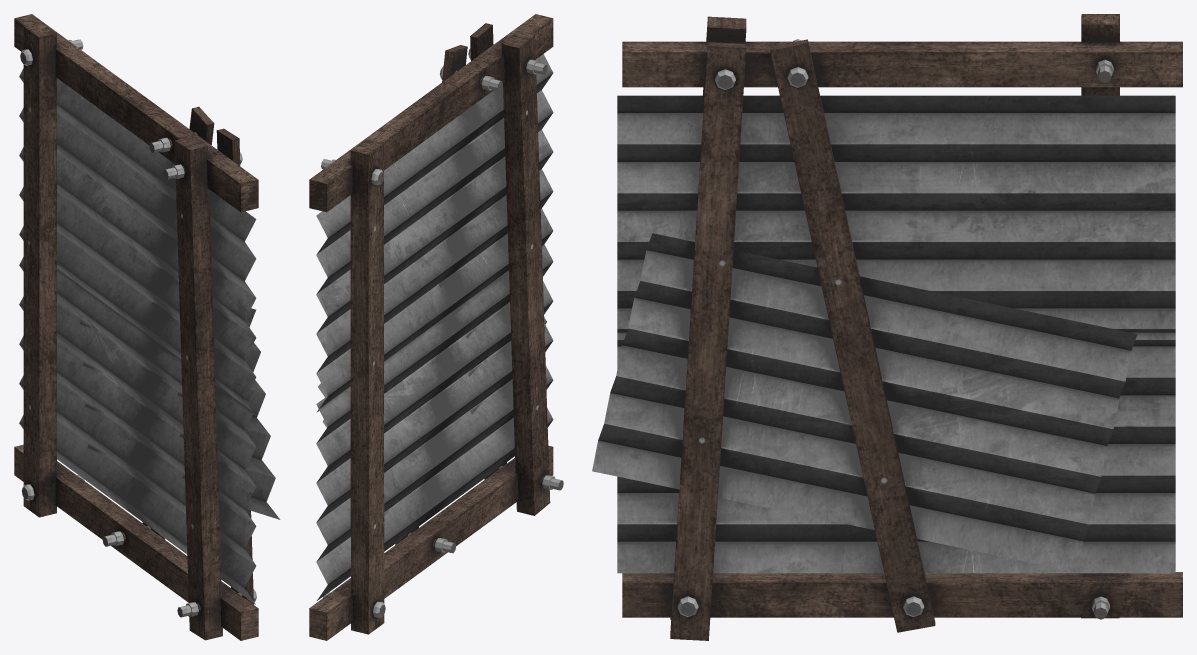
Rendered from tin fence.obj.
3 views of the same model, side by side, from view 1: azimuth 30°, elevation 25°; view 2: azimuth 150°, elevation 25°; view 3: azimuth 270°, elevation 25° (orthographic). The views are drawn at different scales.
Parts seen in each view (by area): view 1: Object.1; view 2: Object.1; view 3: Object.1.
Boxes of the visible parts, x1,y1,x2,y2 form: Object.1: (14,14,280,640); Object.1: (309,14,563,640); Object.1: (592,14,1182,640).
Bounding box in the file's own units: 2556 × 15838 × 14201.
Materials: 1 (1 with a texture image).
